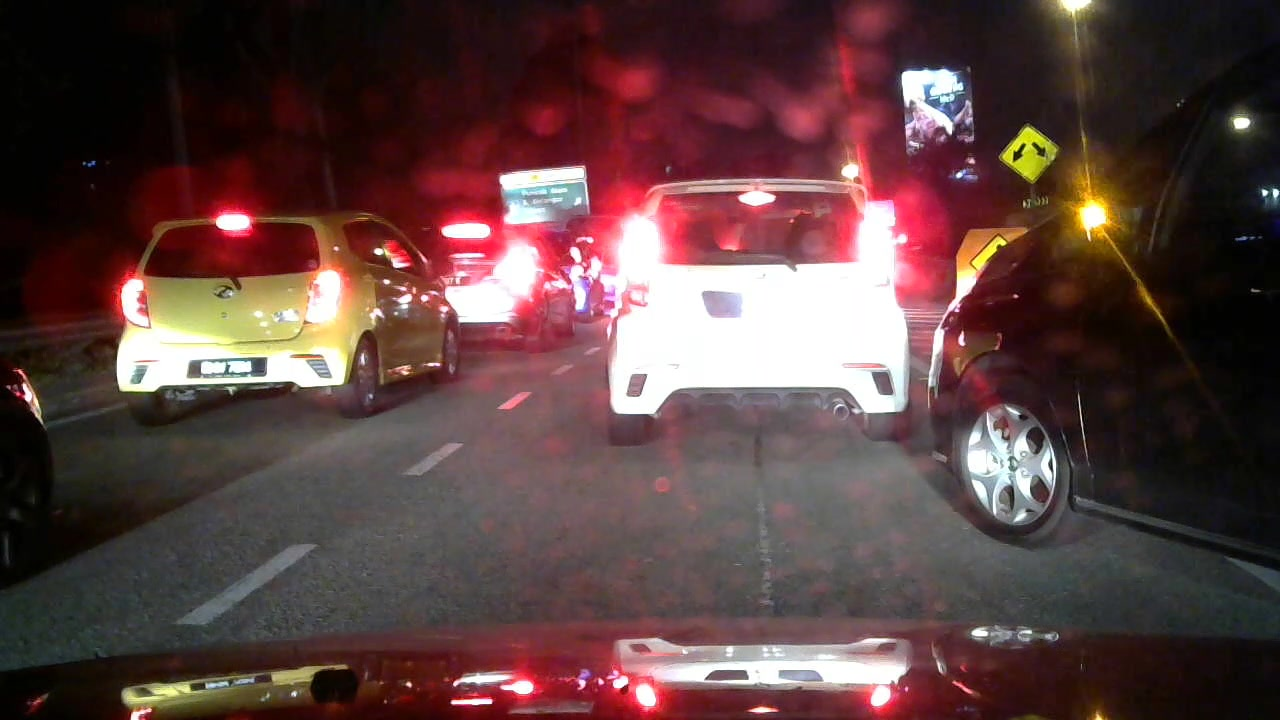Car: (924, 61, 1280, 580), (598, 165, 912, 453), (107, 202, 482, 413), (418, 214, 586, 348), (7, 333, 83, 581), (556, 229, 608, 320)
